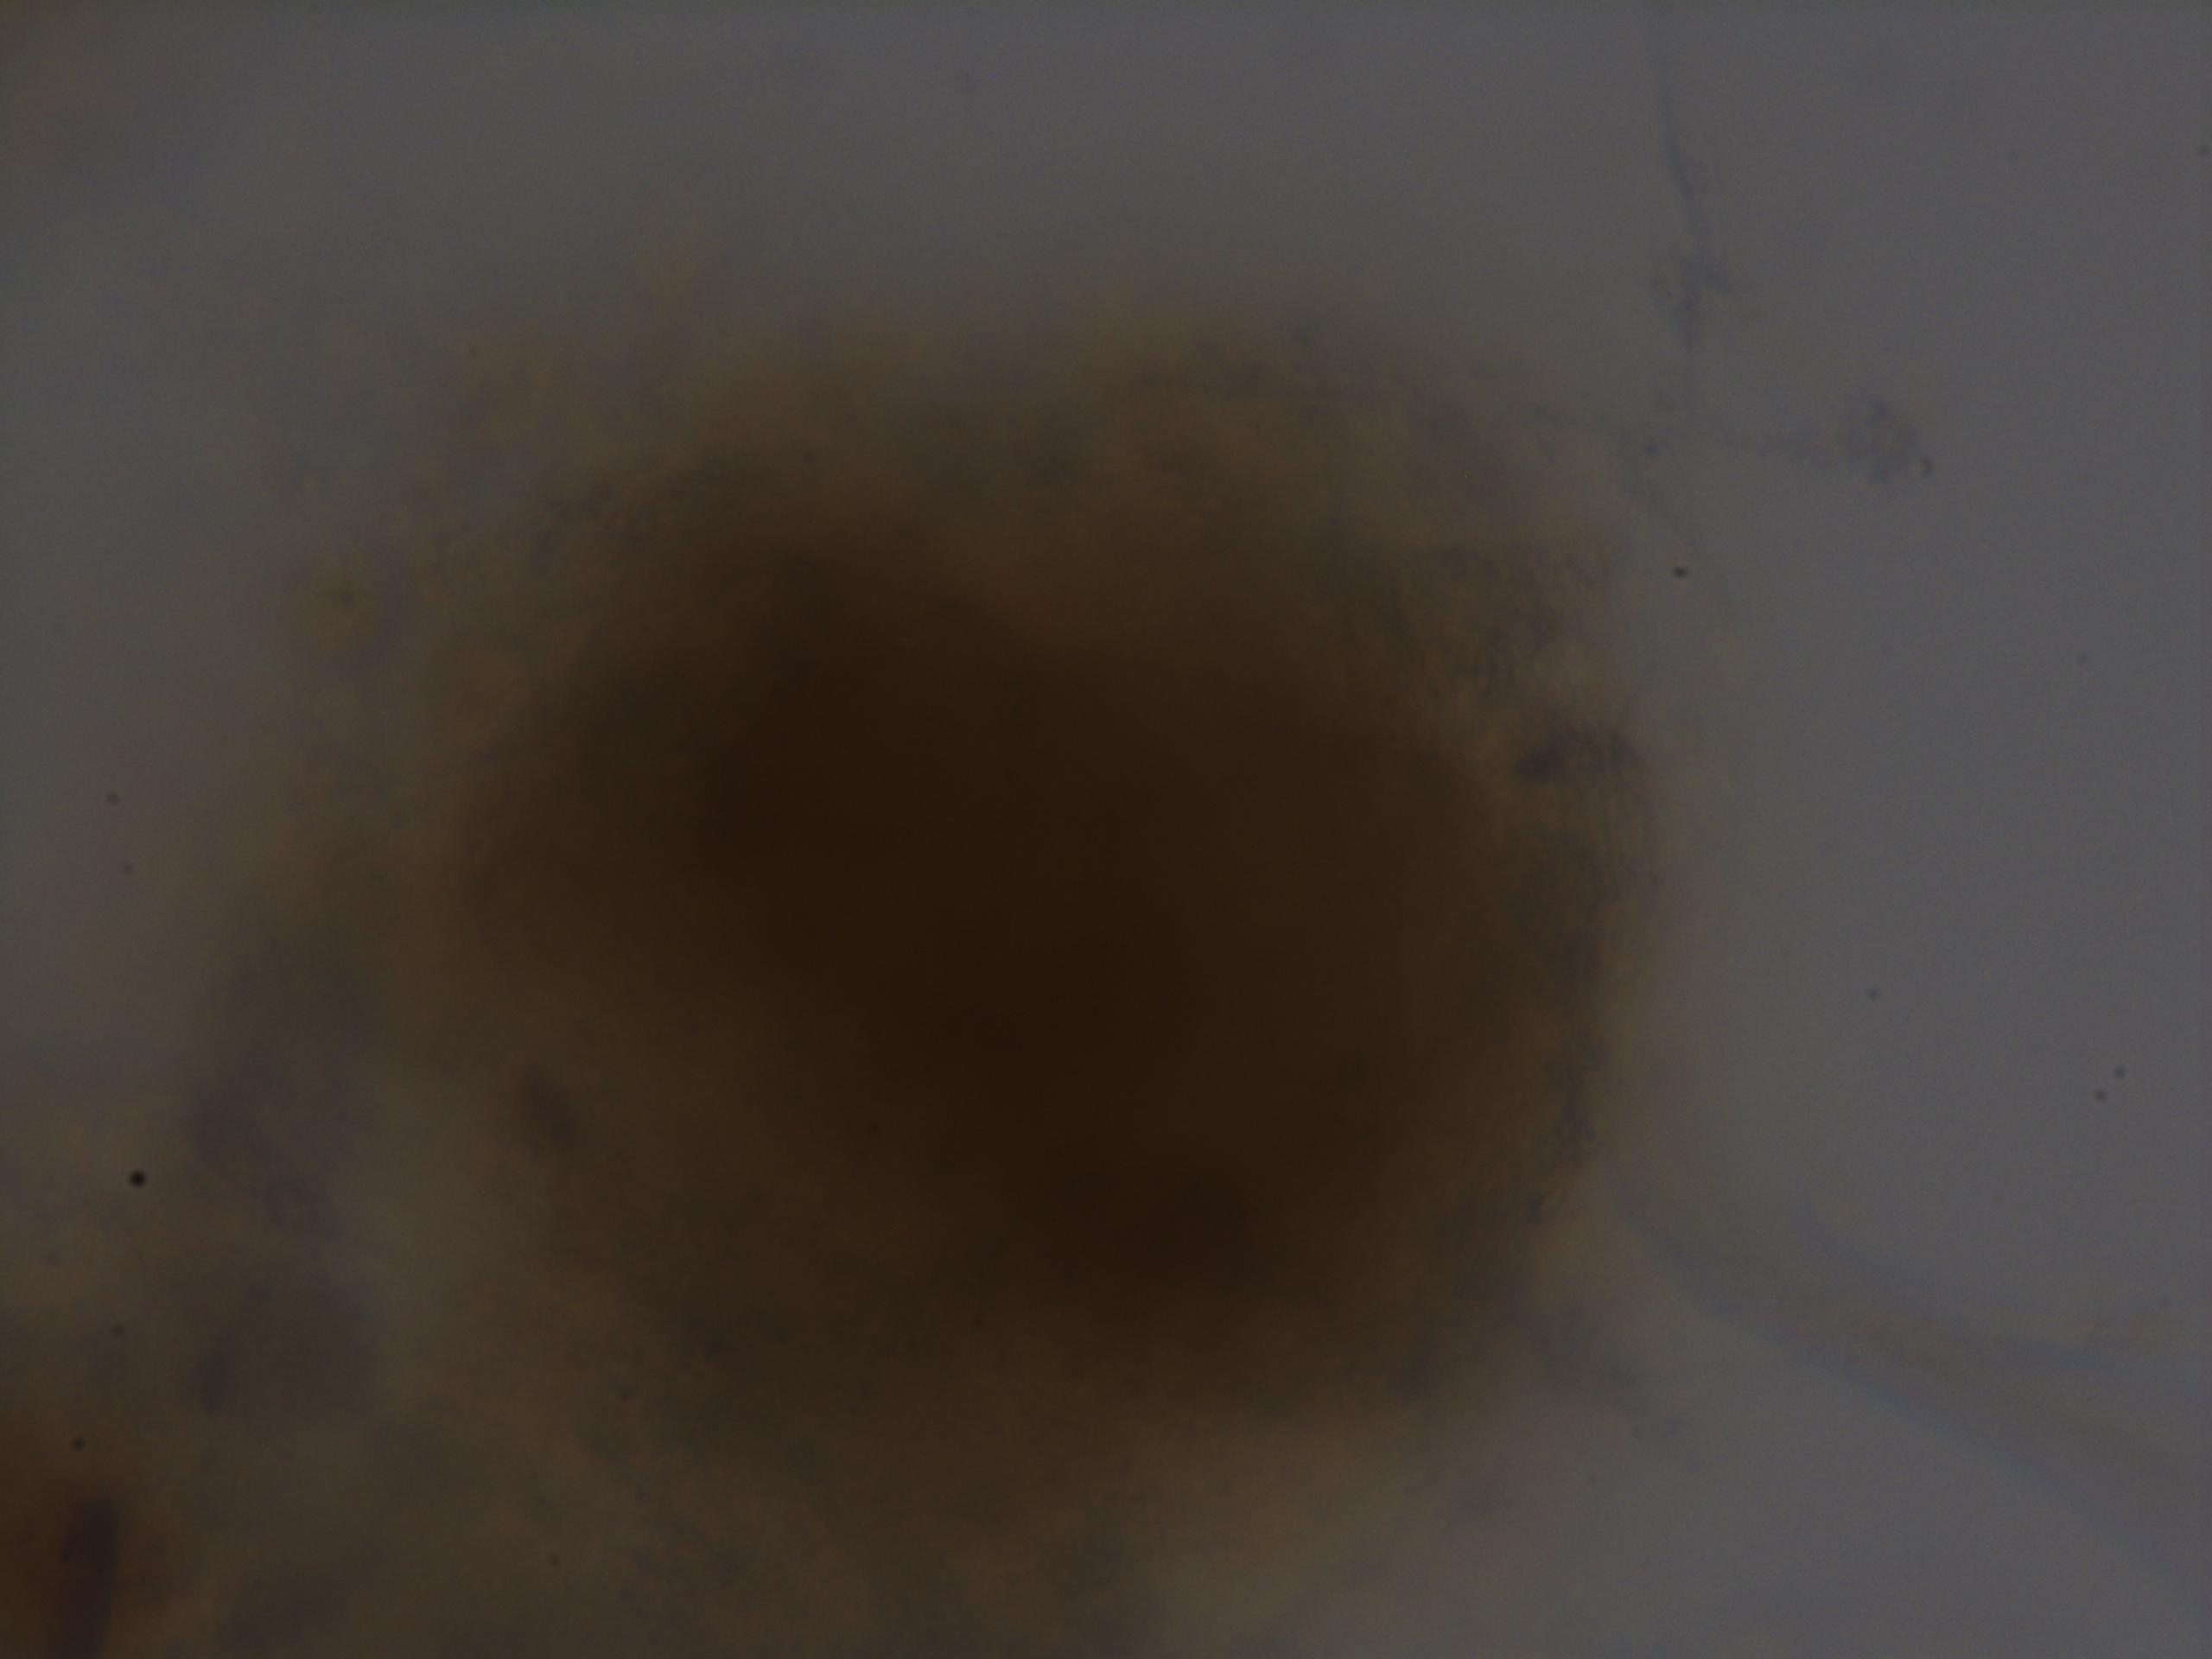spherical_floc: (390, 349, 1648, 1521)
